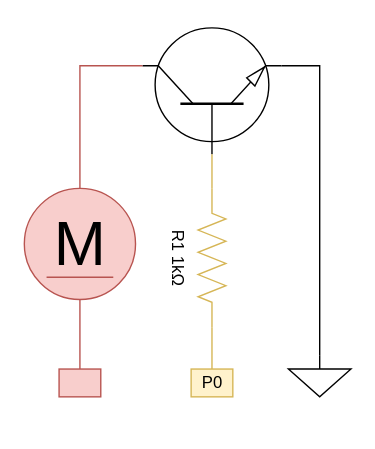
This 375x449 diagram has some shape labels left out. The centre of each missing label's shape, as x and y in pixels:
"+3V" belongs at point (79, 382).
"Gnd" belongs at point (319, 375).
